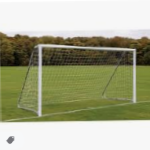goals: (15, 41, 140, 117)
